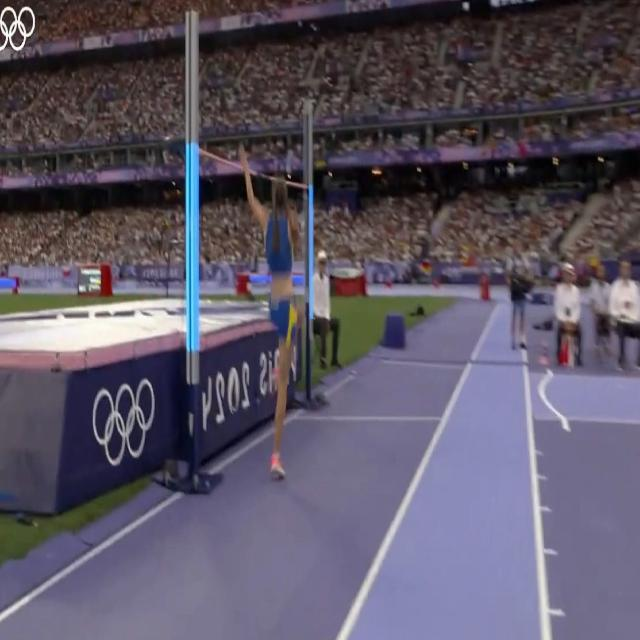jump: (237, 142, 306, 482)
